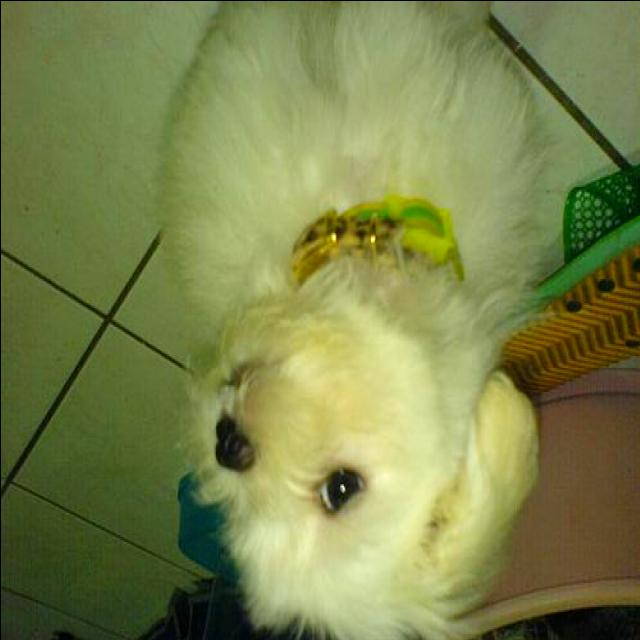maltese_dog: (165, 4, 540, 632)
